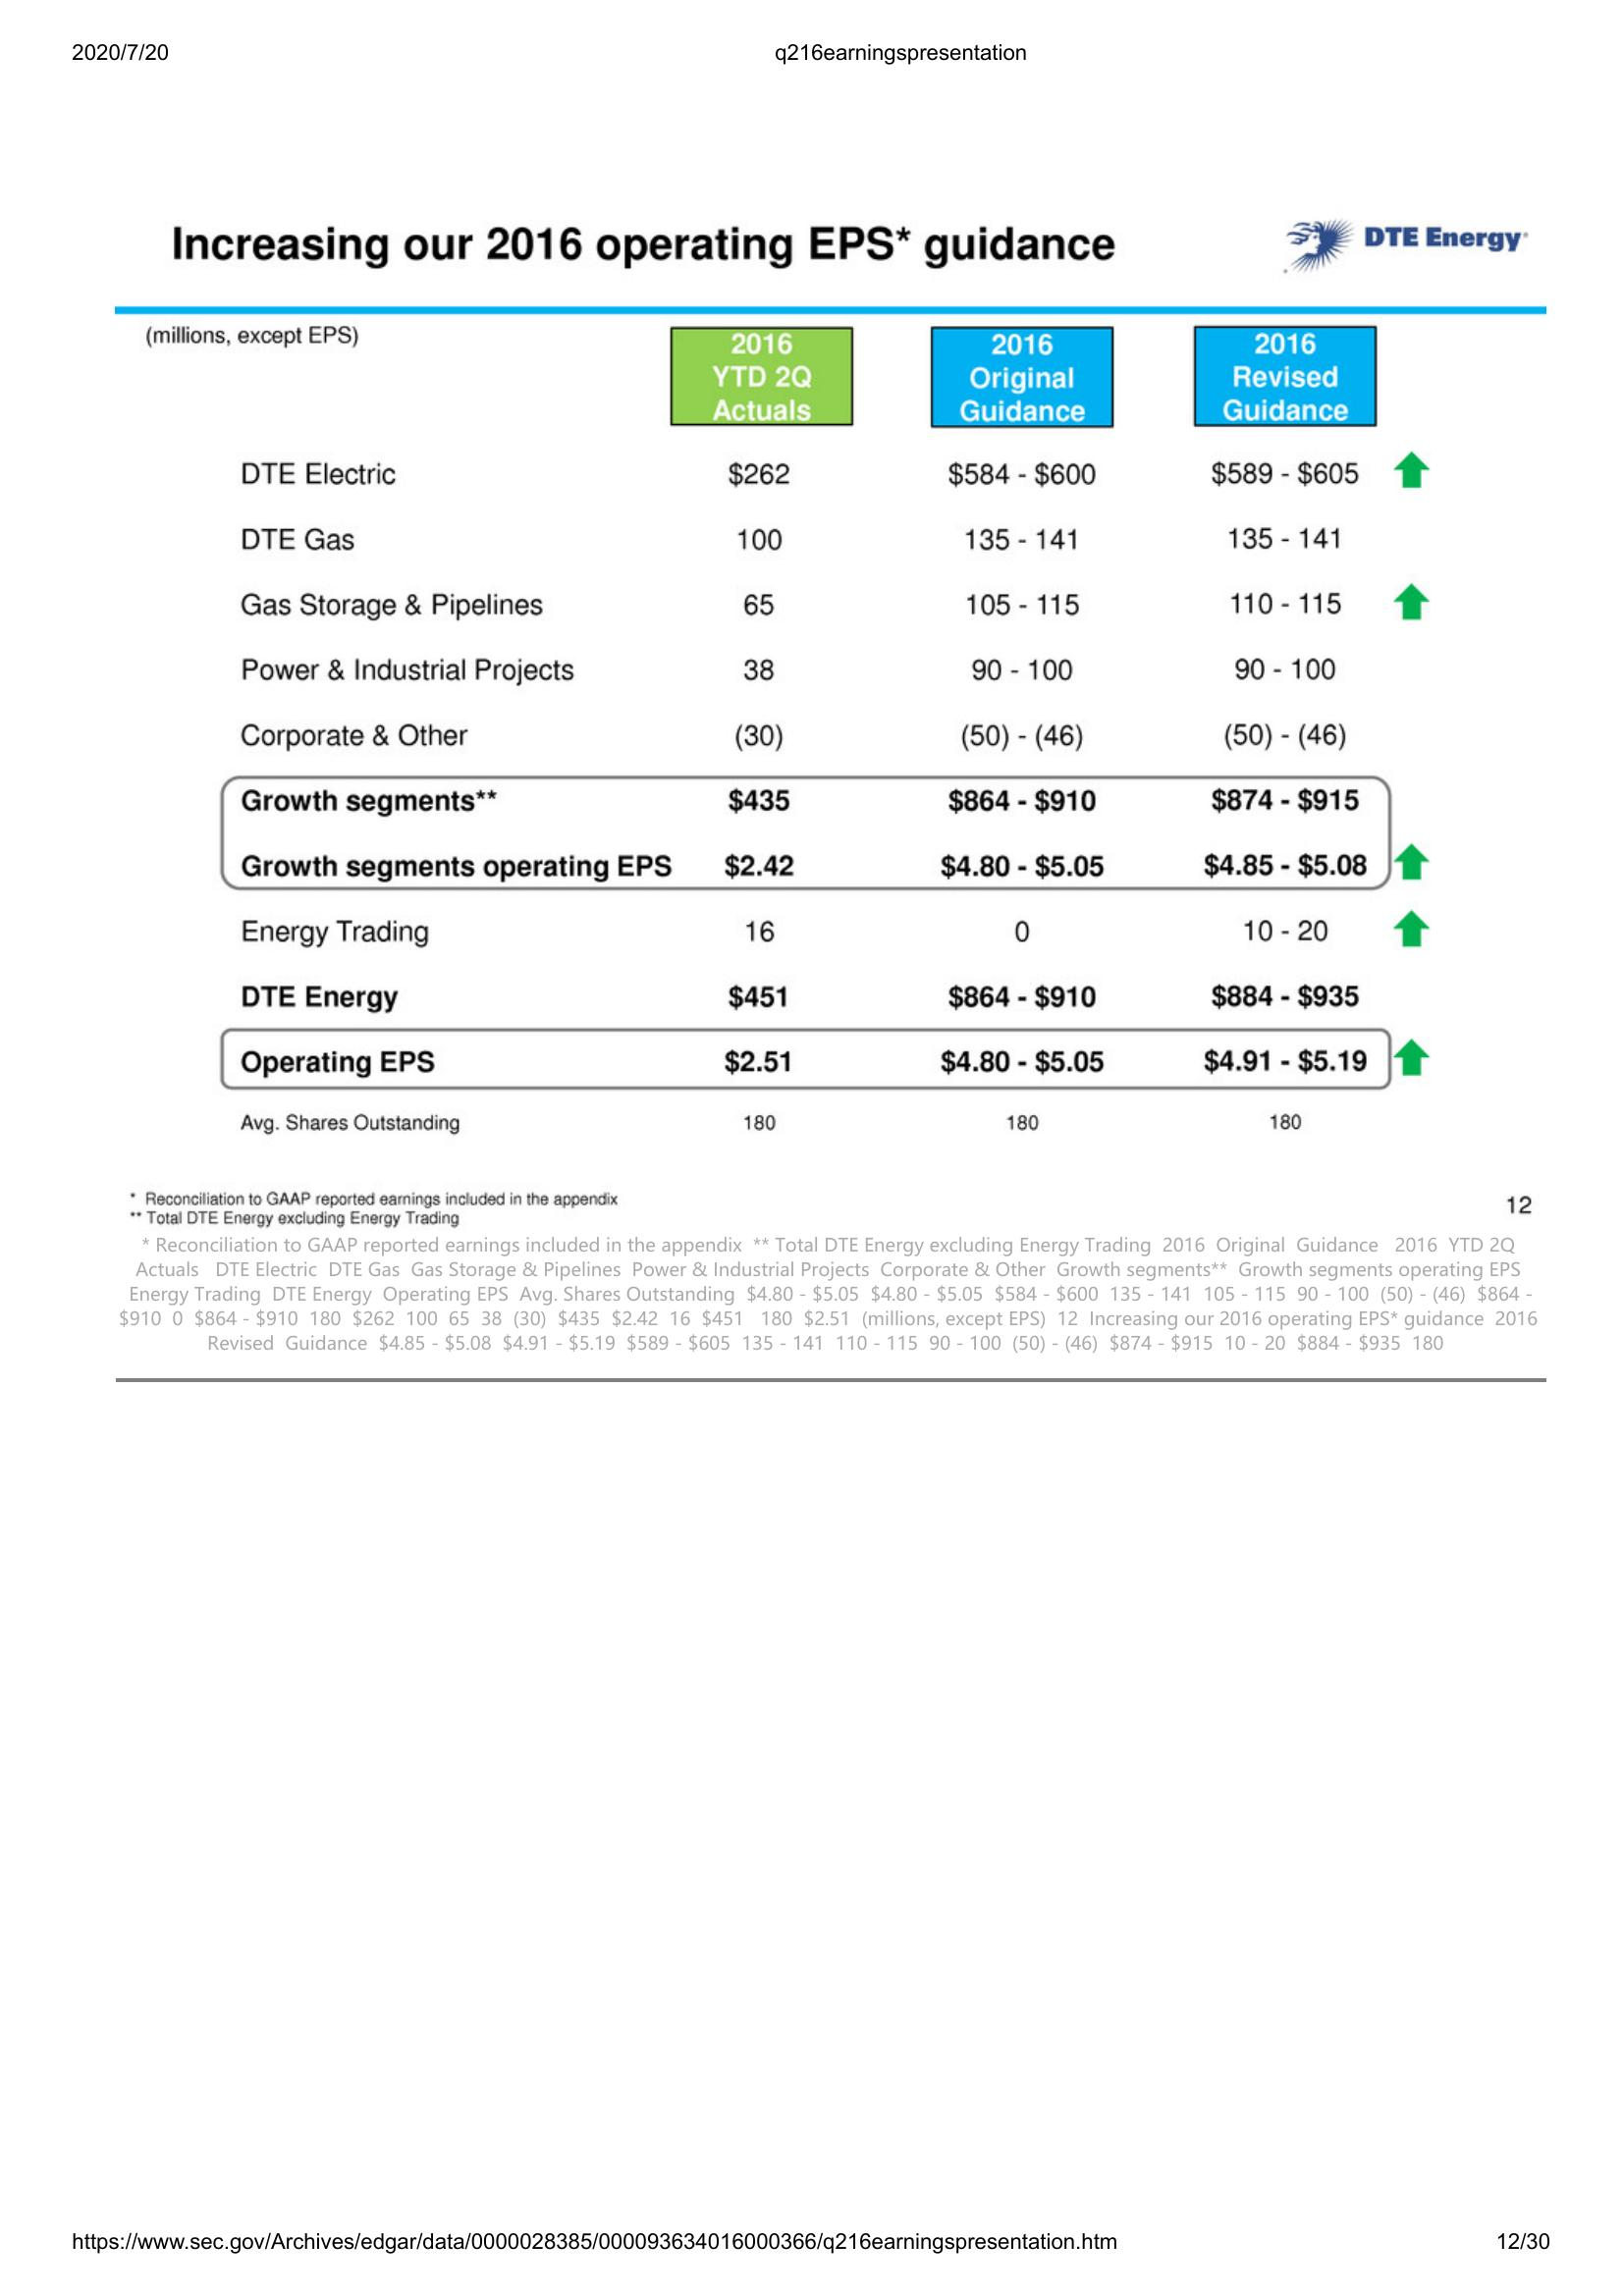table: (213, 323, 1433, 1132)
